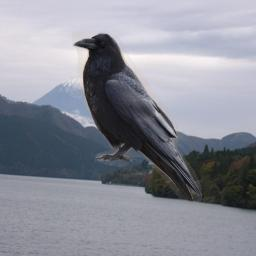Crow: (72, 31, 204, 204)
